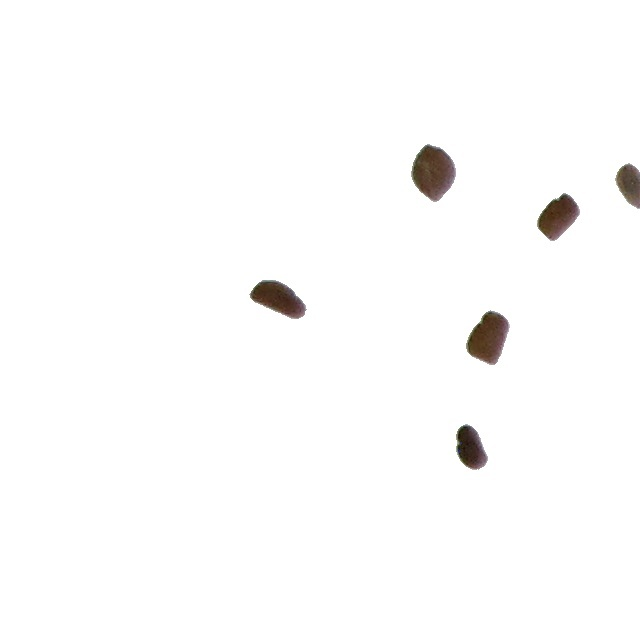buckwheat: (407, 143, 454, 203), (465, 306, 511, 363), (248, 279, 308, 320), (536, 192, 581, 242), (455, 423, 489, 471), (614, 162, 640, 210)
